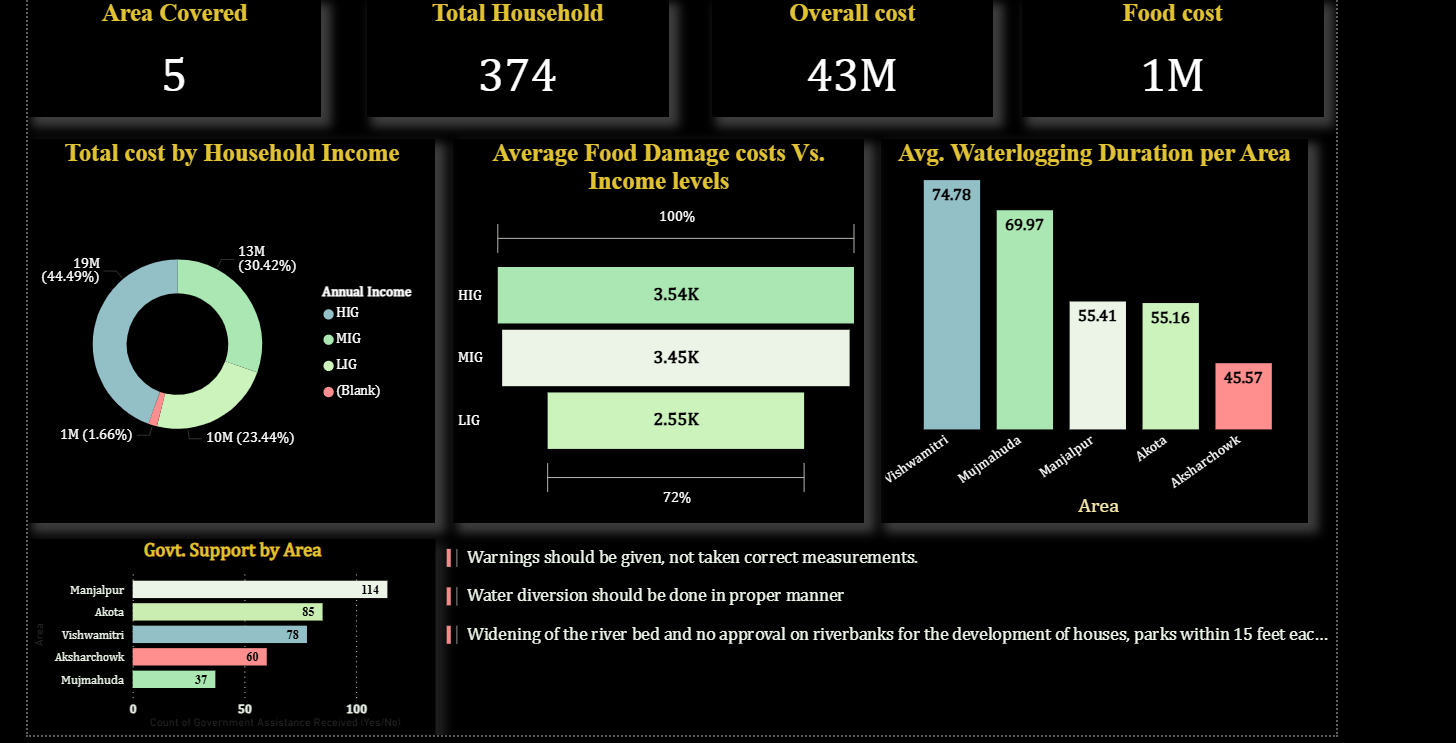

Layout of this report page (visuals, bound fields, positions):
{"tool":"powerbi","page":{"name":"Overview","canvas":[1280,720],"ordinal":0},"visuals":[{"type":"columnChart","title":"Avg. Waterlogging Duration per Area","fields":{"Category":["Sheet1.Area"],"Y":["Avg(Sheet1.Floodwater Duration (in Hours))"]},"box":[834.6,137,418.5,375.3],"z":0},{"type":"funnel","title":"Average Food Damage costs Vs. Income levels","fields":{"Category":["Sheet1 (2).Annual Household Income"],"Y":["Avg(Sheet1 (2).Cost)"]},"box":[416,137,402.5,375.3],"z":1000},{"type":"card","title":"Overall cost","fields":{"Values":["Sheet1.total cost"]},"box":[668.3,0,275,115],"z":2000},{"type":"card","title":"Food cost","fields":{"Values":["Sum(Food Costs.Cost)"]},"box":[971.7,0,295,115],"z":3000},{"type":"donutChart","title":"Total cost by Household Income","fields":{"Category":["Sheet1.Annual Household Income"],"Y":["Sheet1.total cost"]},"box":[0,137,398.8,375.3],"z":4000},{"type":"multiRowCard","fields":{"Values":["Sheet1.Recommendations for Authorities"]},"box":[404.9,533.3,875.3,169.1],"z":5000},{"type":"card","title":"Total Household","fields":{"Values":["CountNonNull(Sheet1.Society / Area)"]},"box":[331.7,0,295,115],"z":6000},{"type":"card","title":"Area Covered","fields":{"Values":["Count(Sheet1 (2).Area)"]},"box":[0,0,286.7,115],"z":7000},{"type":"barChart","title":"Govt. Support by Area","fields":{"Category":["Sheet1.Area"],"Y":["CountNonNull(Sheet1.Government Assistance Received (Yes/No))"]},"box":[0,528.4,398.8,191.4],"z":8000}]}

Visuals, with their boxes on the page's 1280x720 design canvas (x1, y1, x2, y2). These are canvas units, not pixel positions in the 1456x743 screenshot, which may show the page scaled, cropped or inside an application window:
"Avg. Waterlogging Duration per Area" columnChart: (835, 137, 1253, 512)
"Average Food Damage costs Vs. Income levels" funnel: (416, 137, 818, 512)
"Overall cost" card: (668, 0, 943, 115)
"Food cost" card: (972, 0, 1267, 115)
"Total cost by Household Income" donutChart: (0, 137, 399, 512)
multiRowCard - Sheet1.Recommendations for Authorities: (405, 533, 1280, 702)
"Total Household" card: (332, 0, 627, 115)
"Area Covered" card: (0, 0, 287, 115)
"Govt. Support by Area" barChart: (0, 528, 399, 720)
